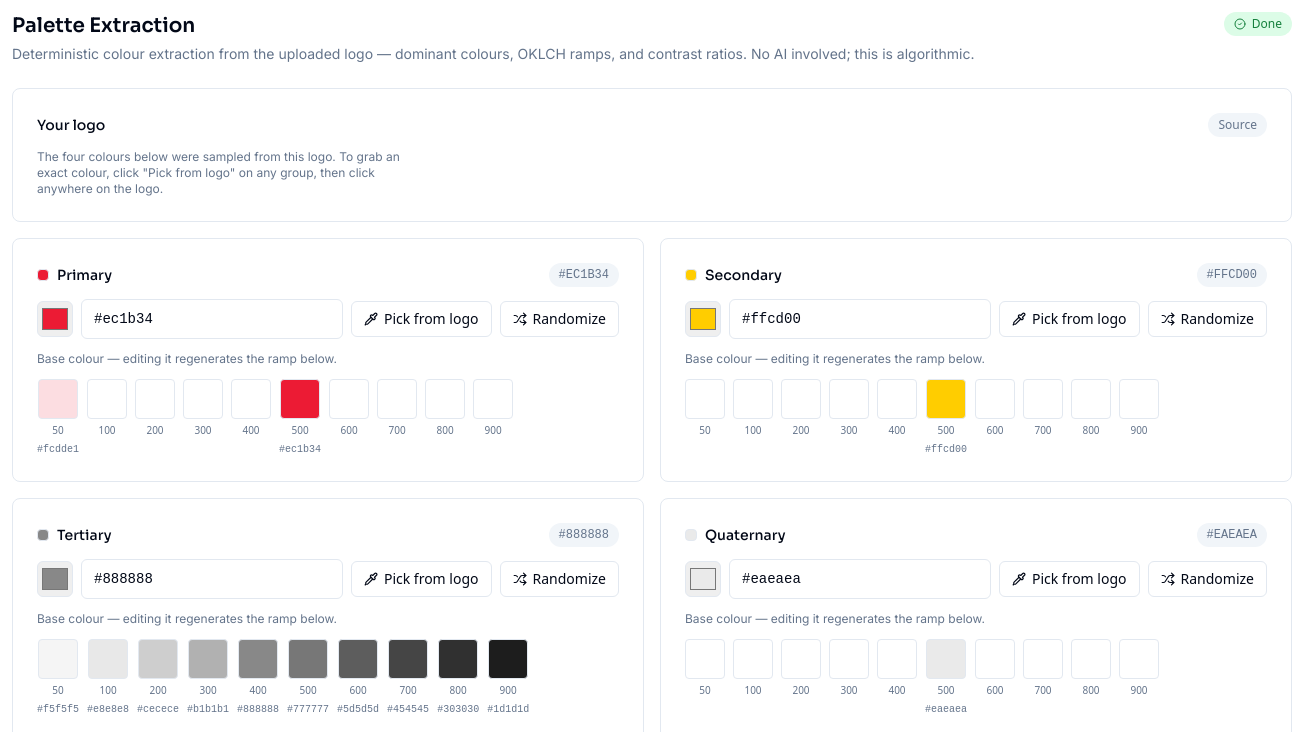
PaletteStage — editable colour groups › editing a base hex regenerates its ramp (anchor step matches the new hex)
The image size is (1292, 732).
Replace the text in the field named "Primary hex value" with "#1a73e8" at point(212, 319), box [81,299,343,339]
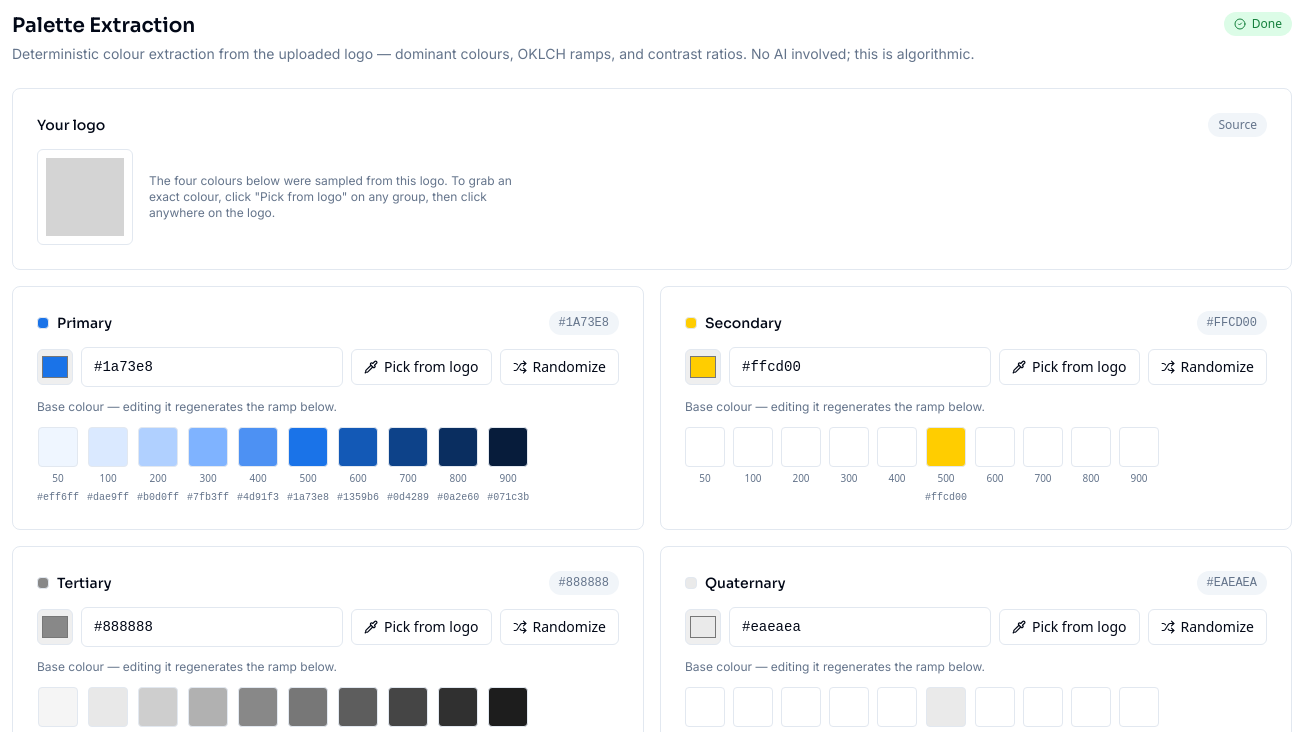
Result: the text "#1A73E8" is shown at [549,311,619,335]
